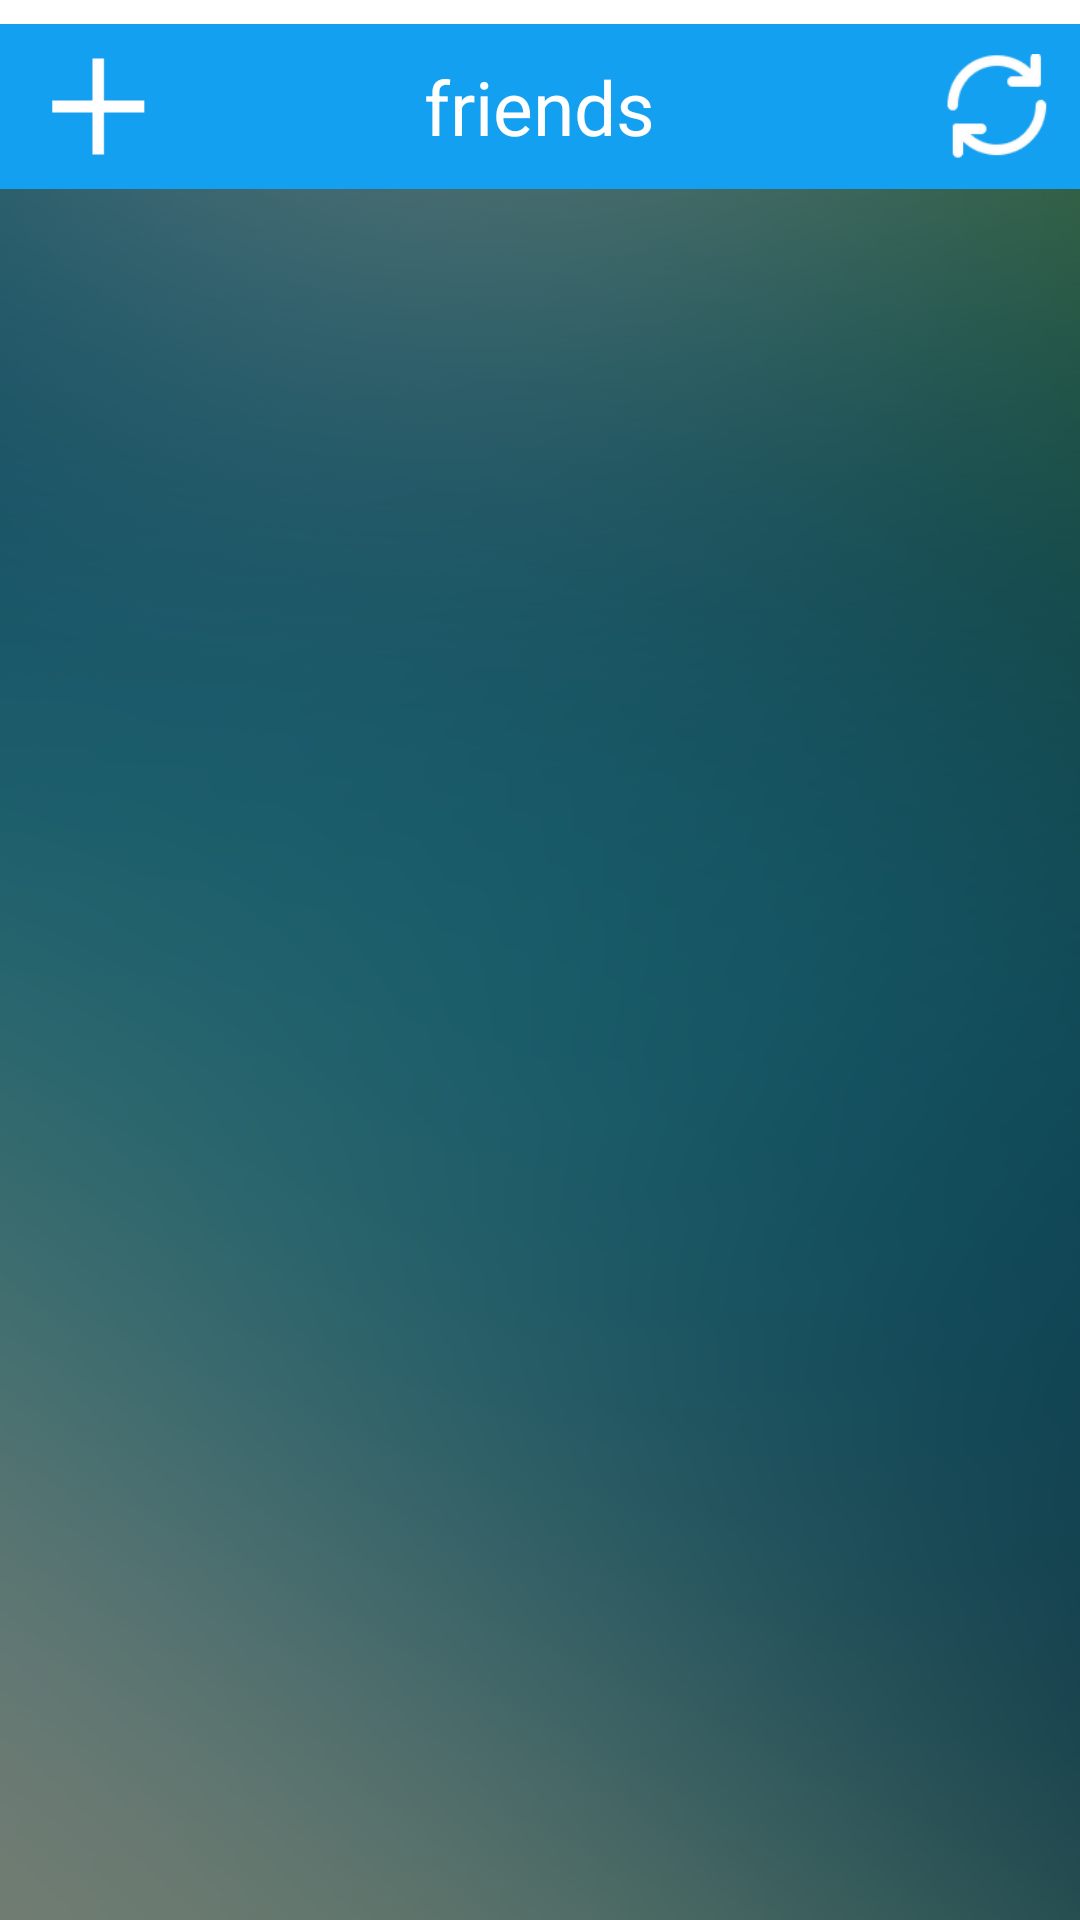

Named icons in this screenshot (1080px×1920px) and their bounding boxes, rect(x1, y1, x2, y2):
add friends: rect(52, 58, 145, 155)
refresh: rect(947, 54, 1047, 158)
